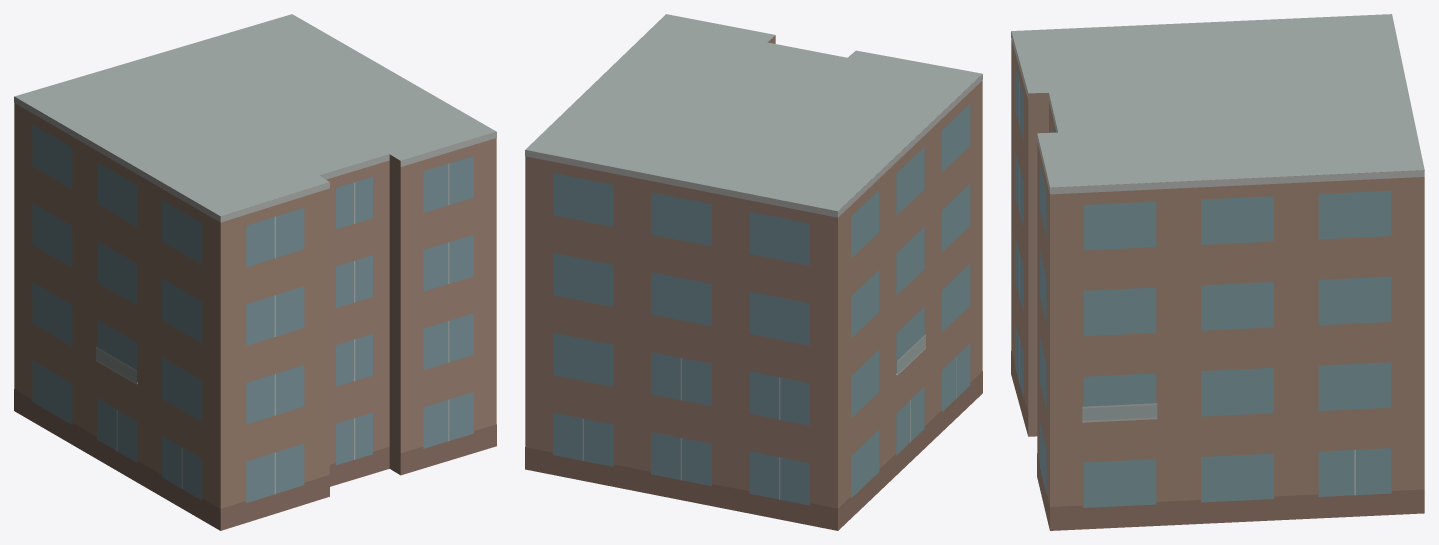
The model's file is survey-upis-33039504.glb.
The picture shows the model from 3 angles, left to right: view 1: azimuth 30°, elevation 25°; view 2: azimuth 150°, elevation 25°; view 3: azimuth 270°, elevation 25°; orthographic projection. The views are drawn at different scales.
Parts seen in each view (by area): view 1: survey-upis-33039504.tmp; view 2: survey-upis-33039504.tmp; view 3: survey-upis-33039504.tmp.
Part boxes in pixels (x1=…): survey-upis-33039504.tmp: x1=14, y1=14, x2=496, y2=530; survey-upis-33039504.tmp: x1=525, y1=14, x2=982, y2=530; survey-upis-33039504.tmp: x1=1011, y1=14, x2=1424, y2=530.
Size of the model in its own units: 13.24 by 12.2 by 13.33.
